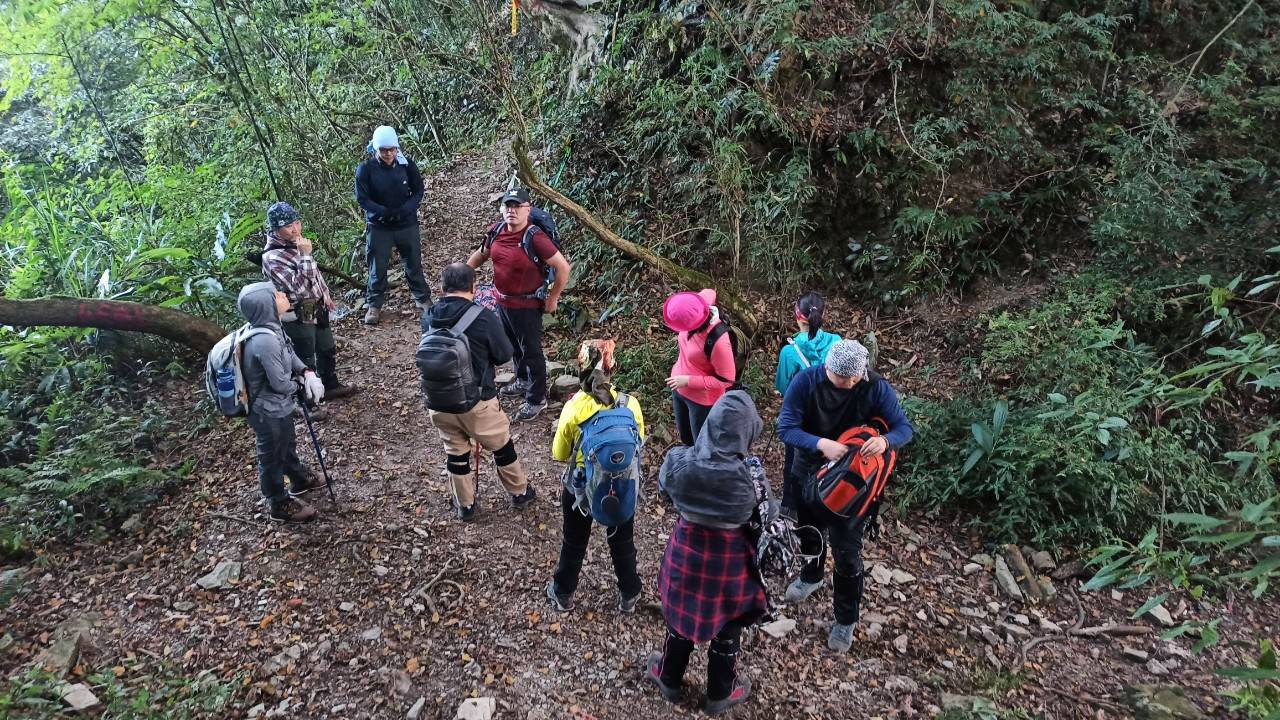people: (786, 327, 891, 640), (668, 382, 762, 713), (220, 278, 342, 526), (562, 337, 648, 624), (428, 262, 520, 509), (257, 207, 357, 404), (497, 186, 566, 420), (651, 284, 746, 442), (360, 124, 438, 306)
